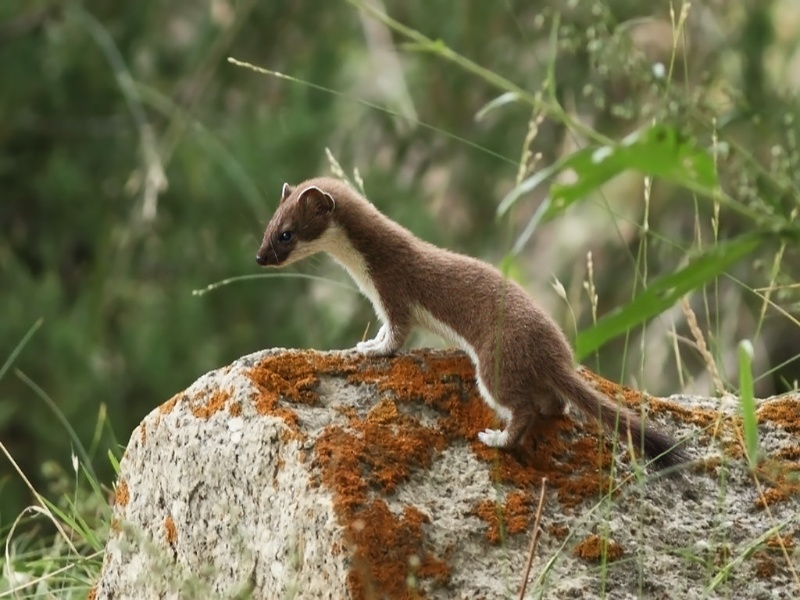minkish: (251, 169, 683, 483)
